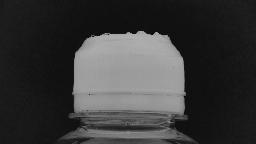Broken Cap: (59, 22, 197, 124)
